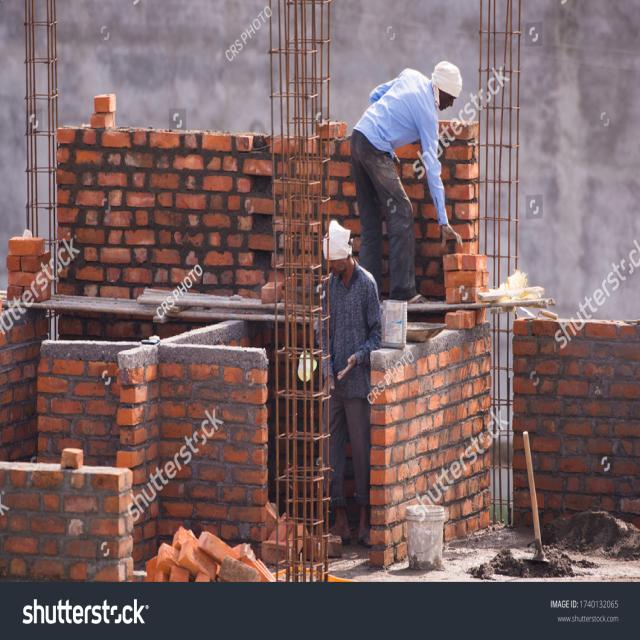Masonary: (12, 74, 527, 571)
